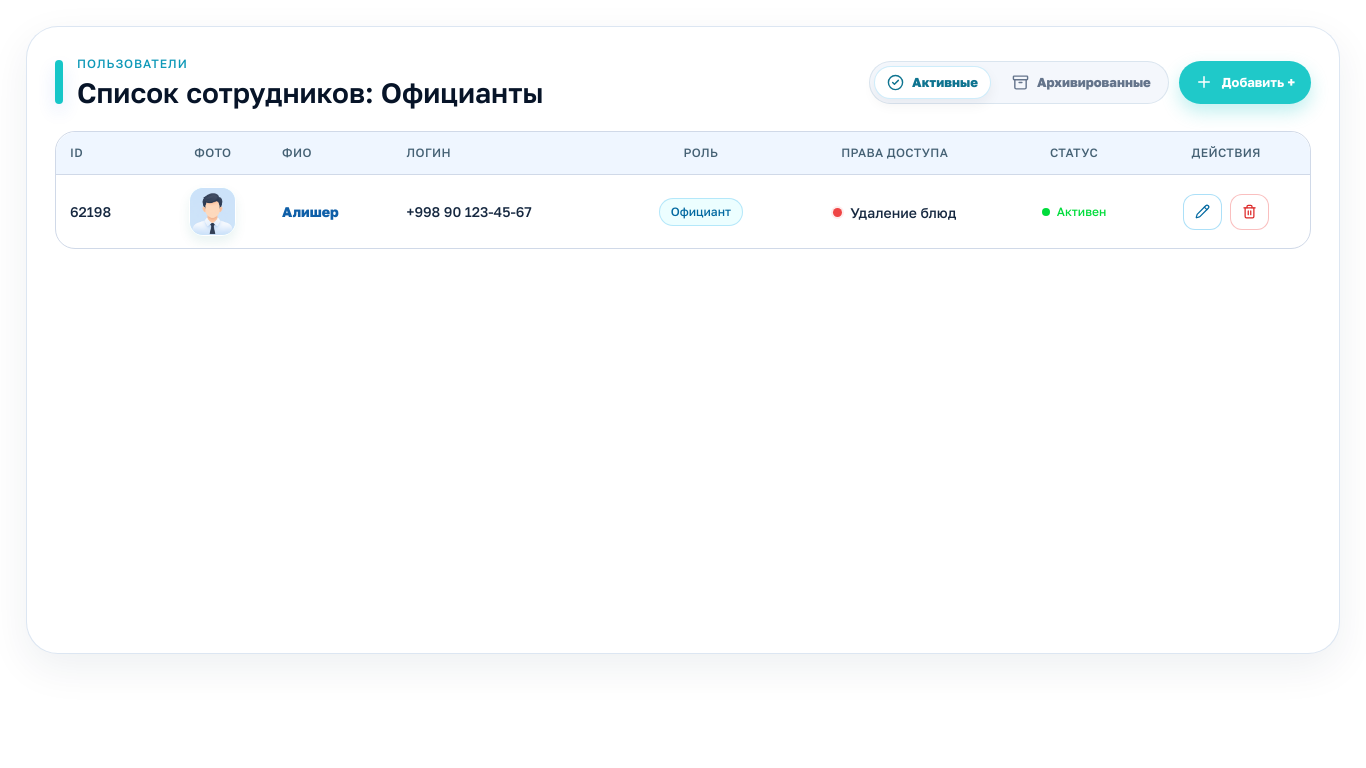
Test: PIN сотрудника в карточке › короткий PIN не отправляется и подсвечивает поле
The width and height of the screenshot is (1366, 768).
Expected: the text "Алишер" is shown, left=268, top=174, right=393, bottom=248
Click the button titled "Edit" at (1203, 212), box left=1183, top=194, right=1222, bottom=230
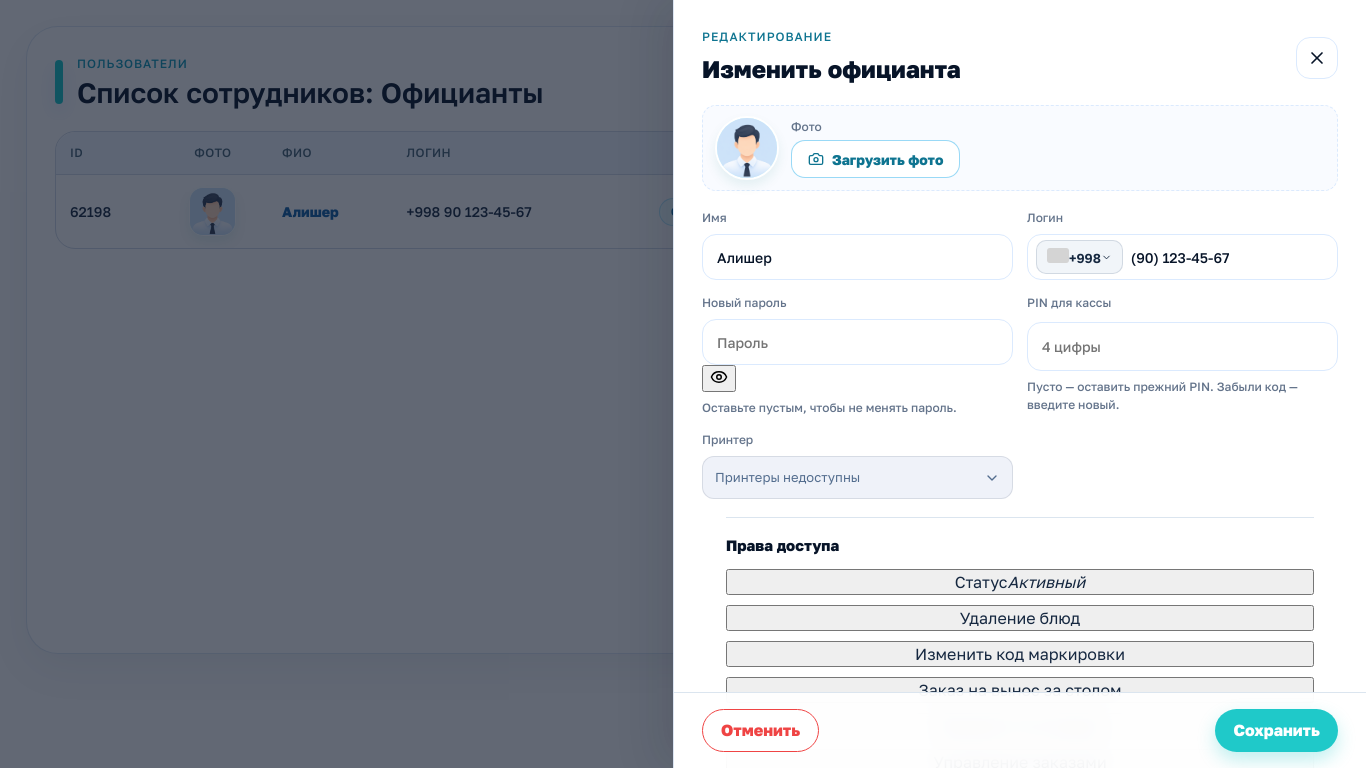
Type "12" into the field with placeholder "4 цифры" at (1182, 346), box left=1027, top=322, right=1338, bottom=371
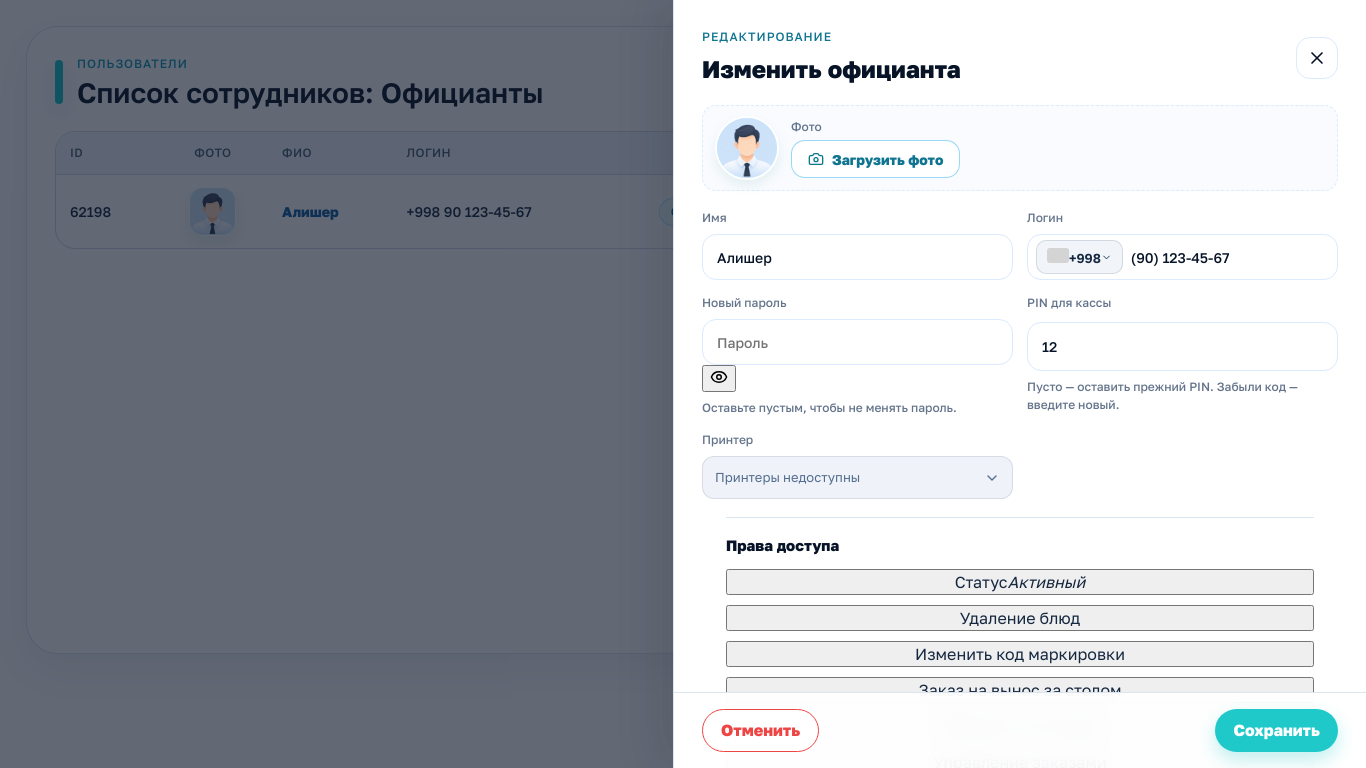
Click the button "Сохранить" at (1277, 730), box left=1216, top=709, right=1338, bottom=752
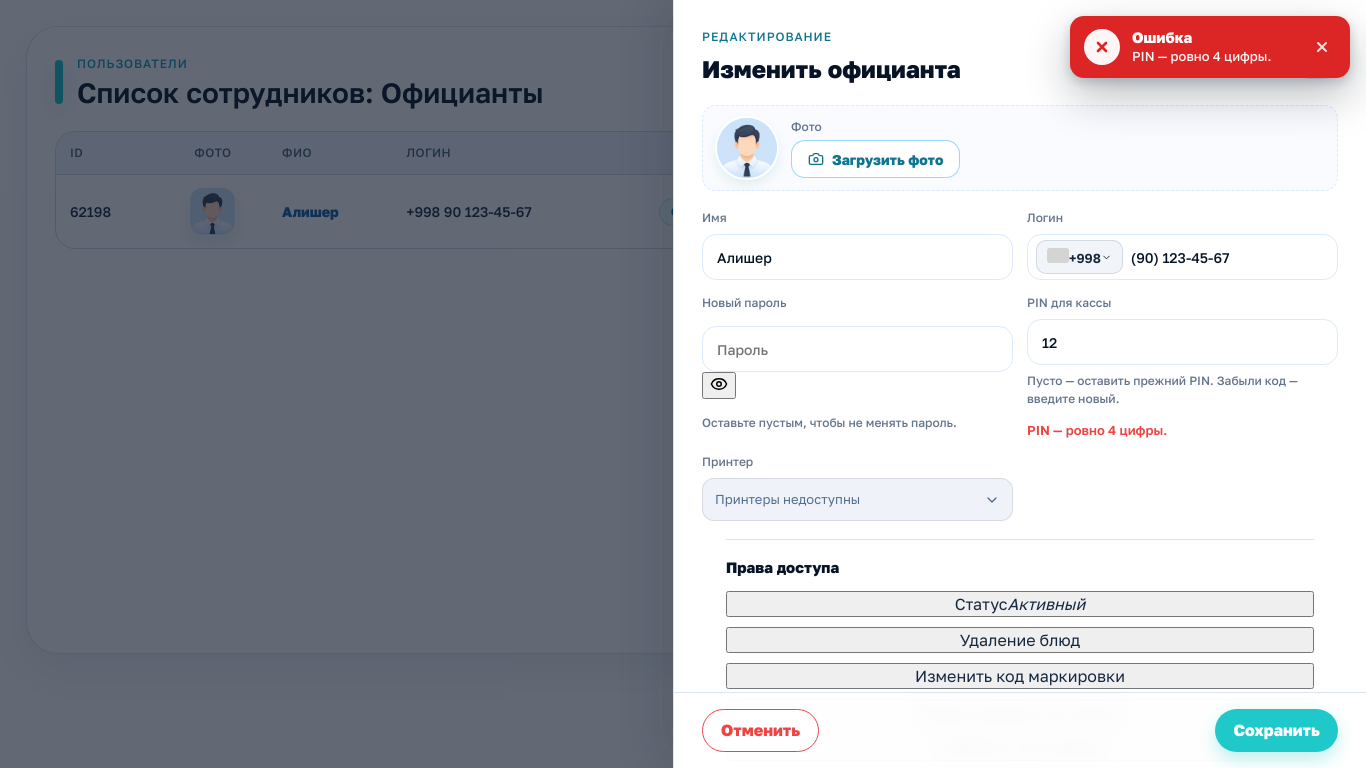
Now the text "PIN — ровно 4 цифры." is shown, box left=1027, top=422, right=1167, bottom=438
